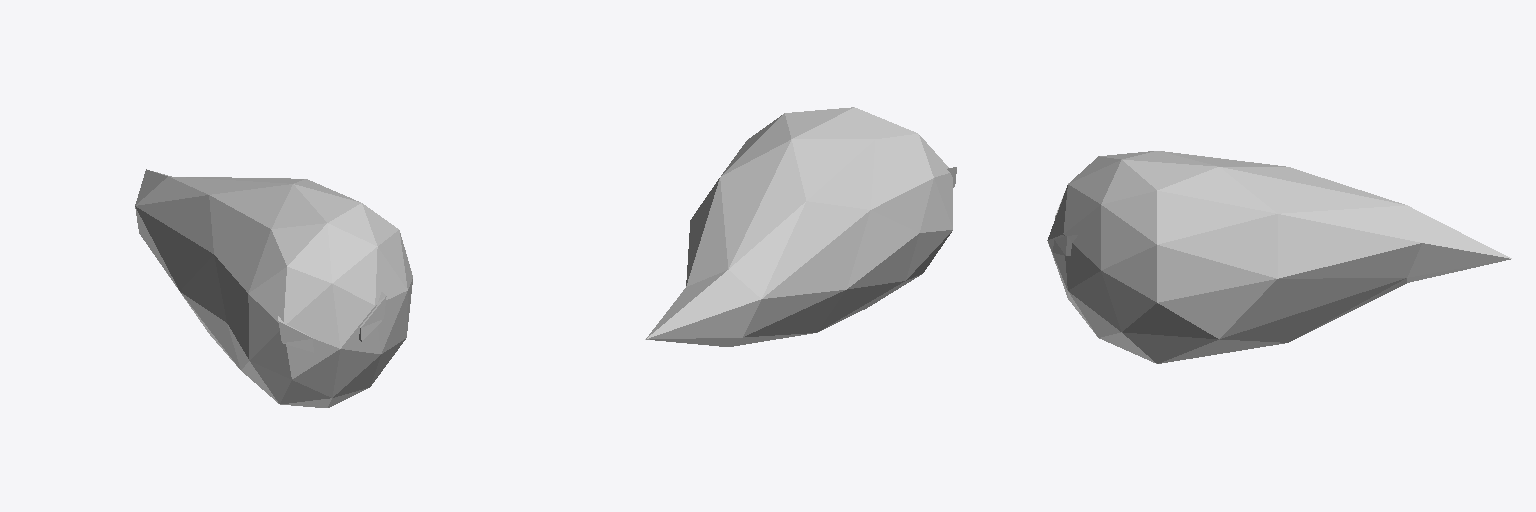
File: eel5.obj
The picture shows the model from 3 angles: view 1: azimuth 30°, elevation 25°; view 2: azimuth 150°, elevation 25°; view 3: azimuth 270°, elevation 25°; orthographic projection.
Parts seen in each view (by area): view 1: Icosphere; view 2: Icosphere; view 3: Icosphere.
Boxes of the visible parts, <box> form: Icosphere: <box>135,169,412,407</box>; Icosphere: <box>645,107,956,346</box>; Icosphere: <box>1047,151,1511,363</box>.
Bounding box in the file's own units: 2.06 × 1.9 × 4.33.